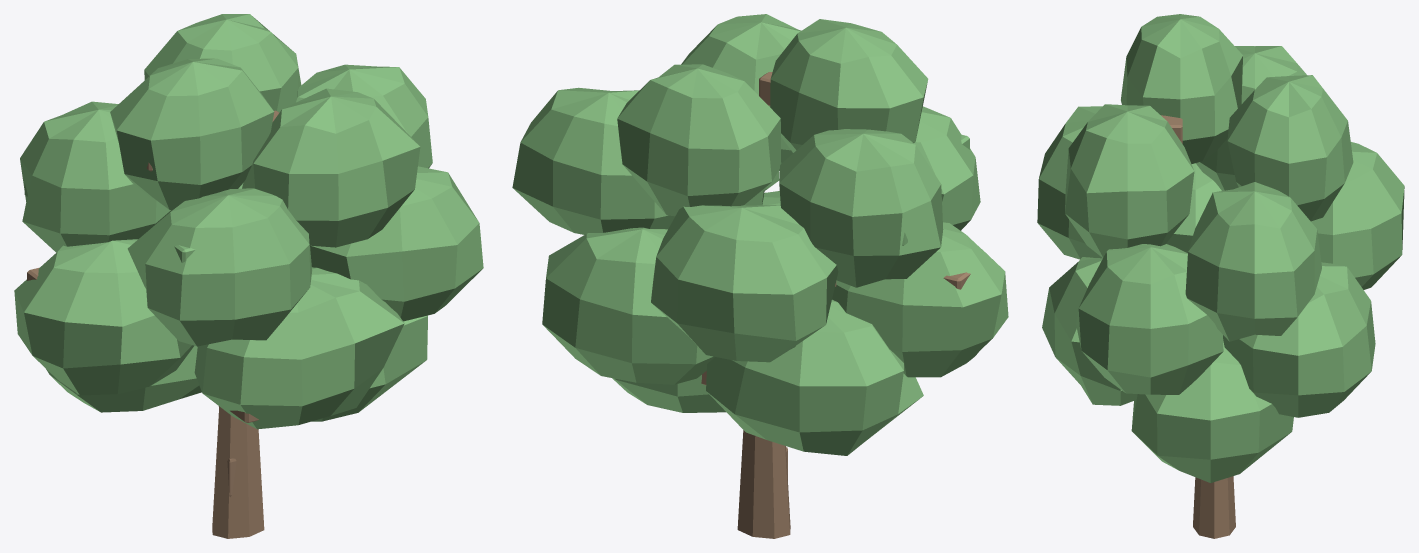
File: b08_sycamore.glb
The picture shows the model from 3 angles, left to right: view 1: azimuth 30°, elevation 25°; view 2: azimuth 150°, elevation 25°; view 3: azimuth 270°, elevation 25°; orthographic projection. The views are drawn at different scales.
Visible parts, largest first — view 1: b08_sycamore; view 2: b08_sycamore; view 3: b08_sycamore.
Part boxes in pixels (x1=…): b08_sycamore: x1=14, y1=14, x2=483, y2=538; b08_sycamore: x1=512, y1=14, x2=1008, y2=538; b08_sycamore: x1=1037, y1=14, x2=1404, y2=538.
Size of the model in its own units: 6.34 by 6.92 by 4.82.
